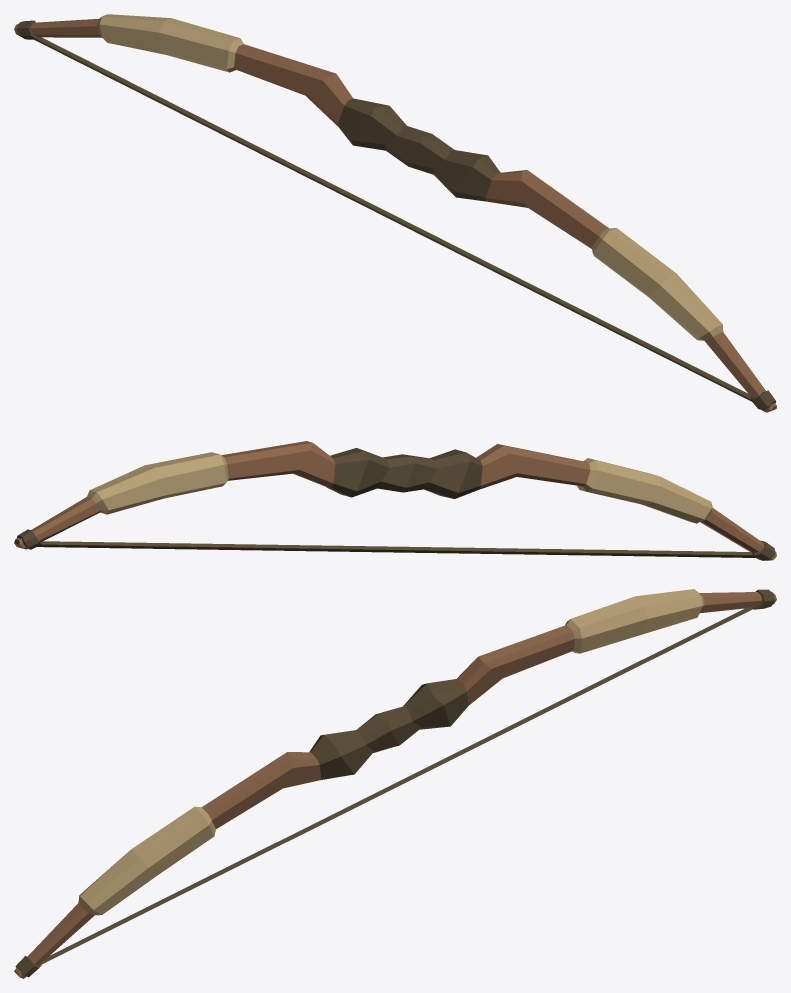
The model's file is fk-bow-01.glb.
3 renders of one model, top to bottom at view 1: azimuth 90°, elevation 25°; view 2: azimuth 150°, elevation 25°; view 3: azimuth 330°, elevation 25°, orthographic.
Parts seen in each view (by area): view 1: fk-bow-01; view 2: fk-bow-01; view 3: fk-bow-01.
Boxes of the visible parts, bbox=[...] form: fk-bow-01: bbox=[14, 14, 776, 412]; fk-bow-01: bbox=[14, 441, 776, 560]; fk-bow-01: bbox=[14, 589, 776, 978].
Bounding box in the file's own units: 0.7185 × 0.4177 × 1.21.
Materials: 1 (1 with a texture image).
